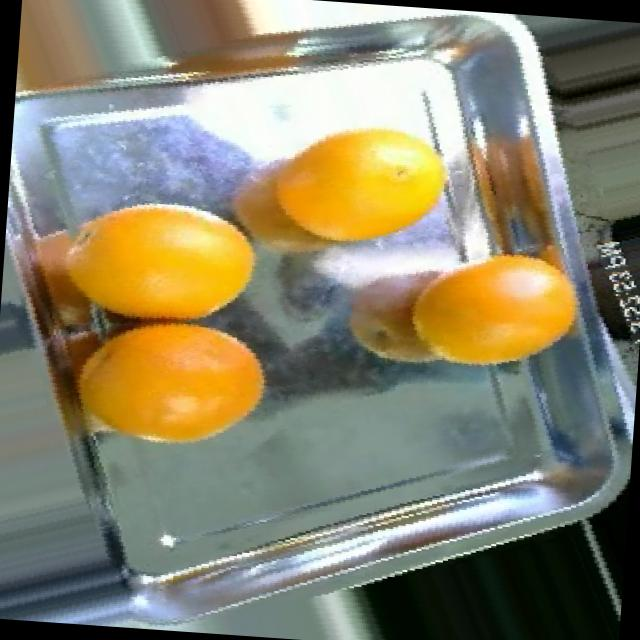Fruit: (248, 95, 479, 268), (77, 308, 288, 468)
